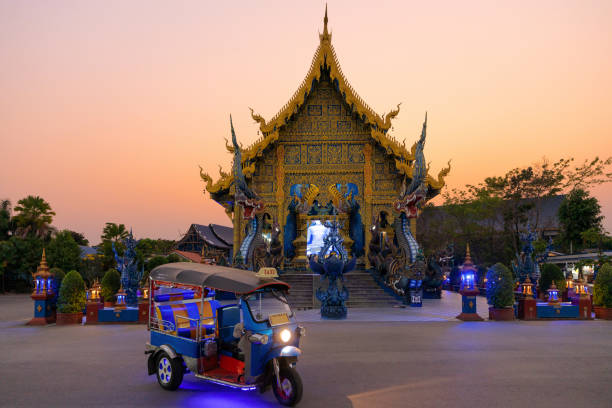threewheel: (144, 261, 304, 408)
